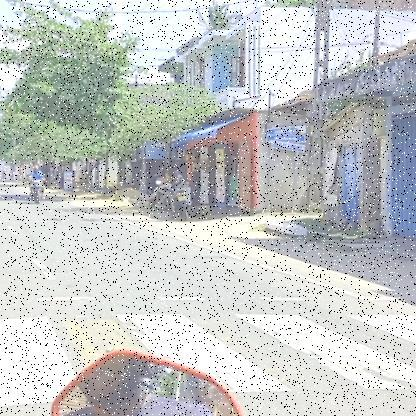motorcycle: (27, 178, 47, 206)
